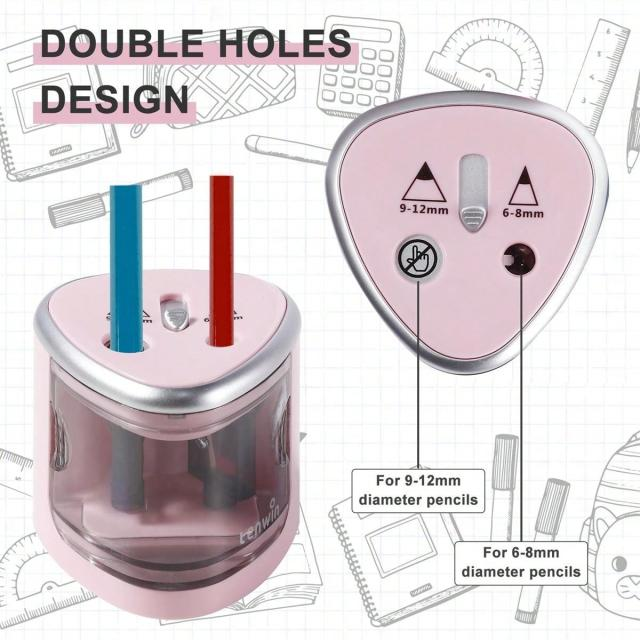pencil_sharpener: (13, 181, 343, 623)
